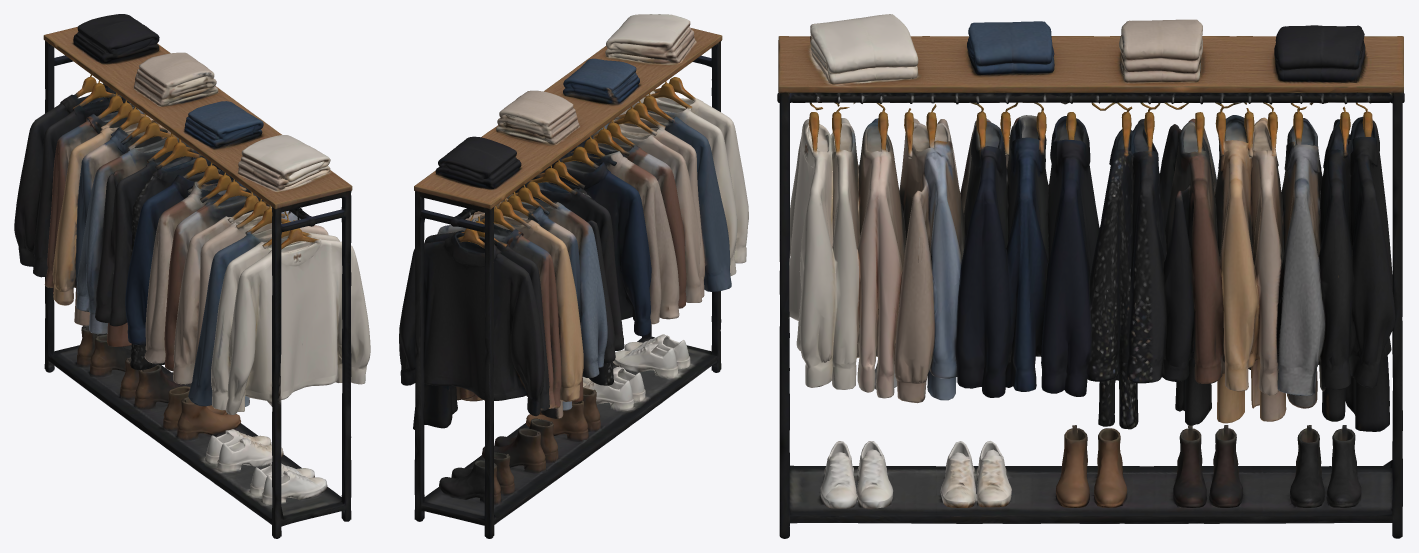
The model's file is clothrail.glb.
3 views of the same model, side by side, from view 1: azimuth 30°, elevation 25°; view 2: azimuth 150°, elevation 25°; view 3: azimuth 270°, elevation 25° (orthographic). The views are drawn at different scales.
Visible parts, largest first — view 1: tripo_node_c77b2e2e-3d52-4b21-924a-4841dd4a9c13; view 2: tripo_node_c77b2e2e-3d52-4b21-924a-4841dd4a9c13; view 3: tripo_node_c77b2e2e-3d52-4b21-924a-4841dd4a9c13.
Boxes of the visible parts, left/top/right/bottom form: tripo_node_c77b2e2e-3d52-4b21-924a-4841dd4a9c13: left=14, top=14, right=370, bottom=538; tripo_node_c77b2e2e-3d52-4b21-924a-4841dd4a9c13: left=399, top=14, right=748, bottom=538; tripo_node_c77b2e2e-3d52-4b21-924a-4841dd4a9c13: left=777, top=14, right=1404, bottom=538.
Bounding box in the file's own units: 0.8129 × 1.8 × 2.09.
1 material, 1 textured.
